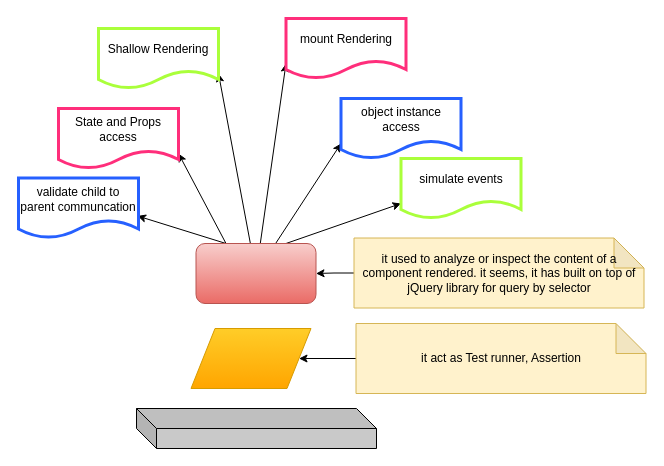
This 664x466 diagram has some shape labels left out. Here are the shapes that lost their labels. From the top down, the centre of each, then its label:
the point at 255,273: Enzime
the point at 250,358: Jest
the point at 256,428: React Component test
